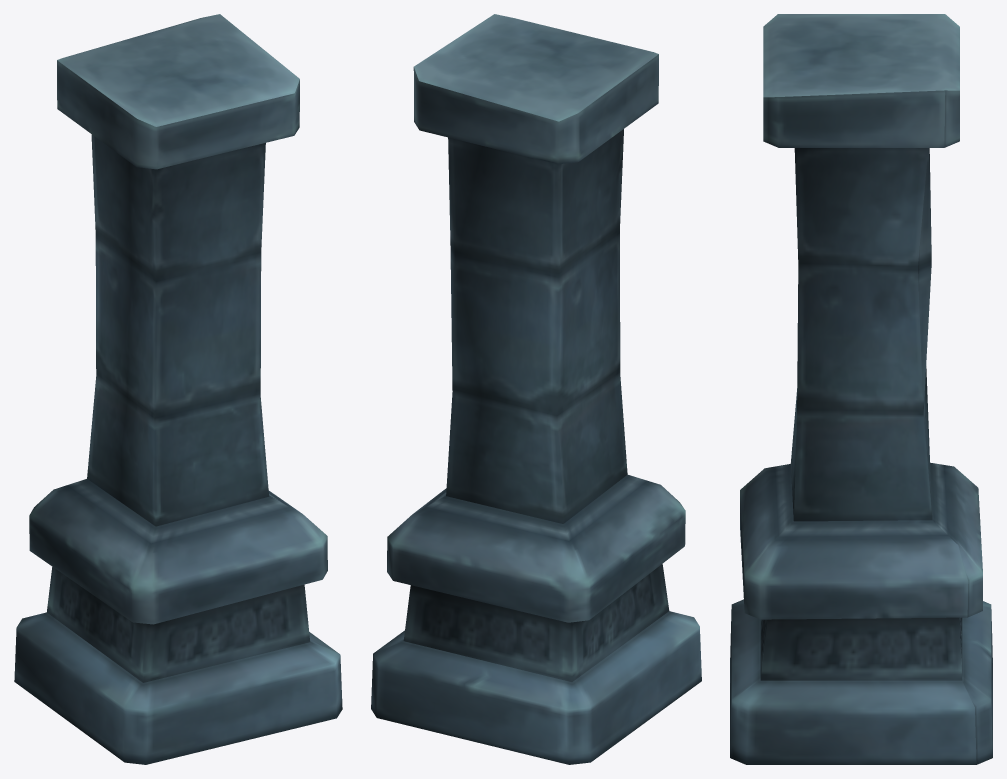
Rendered from pillar_01_mobile.fbx.
3 renders of one model, left to right at view 1: azimuth 30°, elevation 25°; view 2: azimuth 150°, elevation 25°; view 3: azimuth 270°, elevation 25°, orthographic. The views are drawn at different scales.
Parts seen in each view (by area): view 1: pillar_01_mobile; view 2: pillar_01_mobile; view 3: pillar_01_mobile.
Part boxes in pixels (left/top/right/bottom): pillar_01_mobile: left=14, top=14, right=342, bottom=764; pillar_01_mobile: left=371, top=14, right=701, bottom=764; pillar_01_mobile: left=730, top=14, right=992, bottom=764.
Size of the model in its own units: 152 by 422 by 152.
